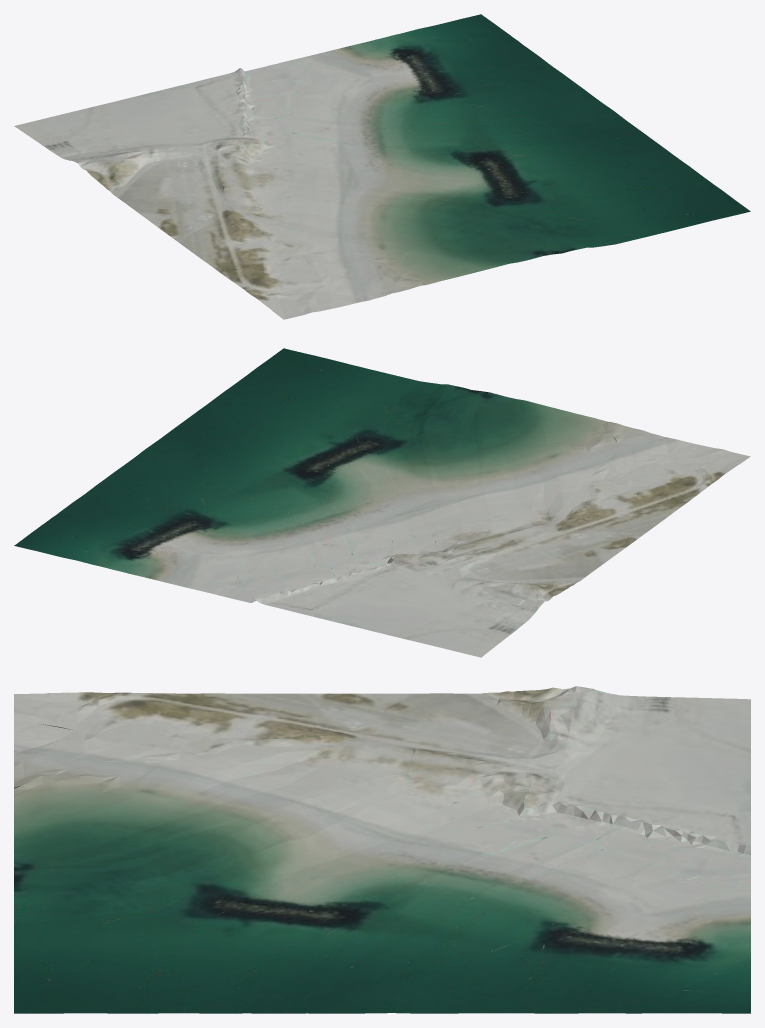
3 renders of one model, top to bottom at view 1: azimuth 30°, elevation 25°; view 2: azimuth 150°, elevation 25°; view 3: azimuth 270°, elevation 25°, orthographic. The views are drawn at different scales.
Bounding box in the file's own units: 418 × 12.26 × 418.
Materials: 3 (3 with a texture image).
